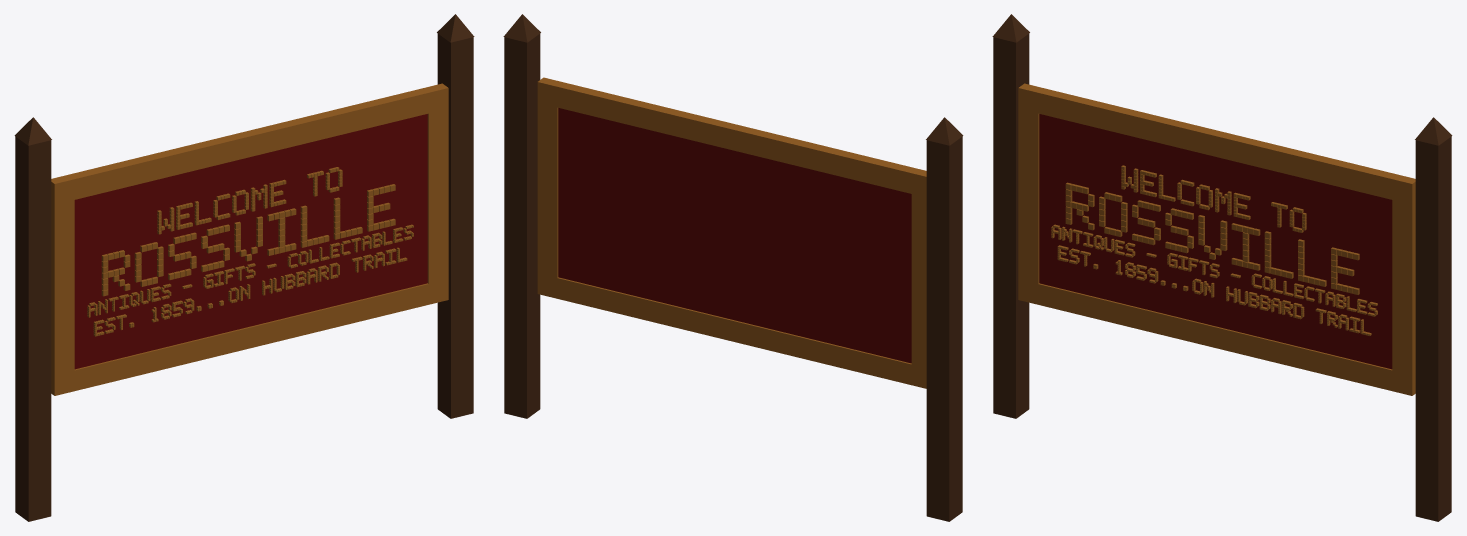
Rendered from WelcomeToRossvilleSign.obj.
3 views of the same model, side by side, from view 1: azimuth 30°, elevation 25°; view 2: azimuth 150°, elevation 25°; view 3: azimuth 330°, elevation 25° (orthographic).
Visible parts, largest first — view 1: WelcomeToRossvilleSign; view 2: WelcomeToRossvilleSign; view 3: WelcomeToRossvilleSign.
Part boxes in pixels (x1,y1,x2,y2): WelcomeToRossvilleSign: [14, 14, 474, 521]; WelcomeToRossvilleSign: [503, 14, 963, 521]; WelcomeToRossvilleSign: [992, 14, 1452, 521].
Bounding box in the file's own units: 3.15 × 2.68 × 0.1798.
